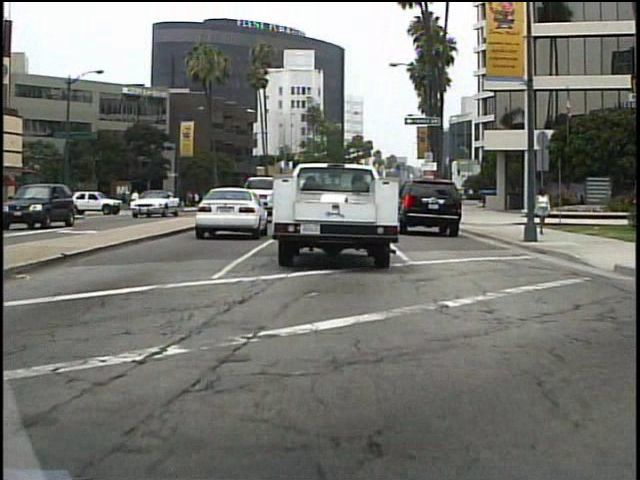person: (534, 184, 554, 243), (123, 191, 130, 214), (134, 188, 140, 214)
